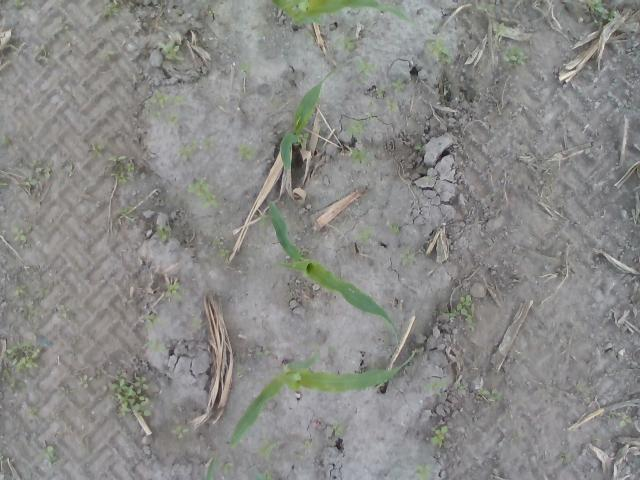Maize: (266, 199, 399, 344), (229, 350, 415, 452), (280, 72, 332, 172), (270, 0, 411, 30), (204, 456, 220, 480)
Weeds: (0, 340, 42, 396), (110, 368, 156, 417), (14, 282, 49, 320), (185, 176, 224, 208), (424, 37, 456, 65), (456, 294, 478, 332), (343, 111, 376, 136), (110, 154, 135, 186), (350, 56, 378, 81), (158, 38, 185, 62), (588, 0, 610, 28), (144, 94, 186, 108), (160, 278, 182, 304), (497, 46, 527, 65), (478, 386, 510, 403), (350, 148, 374, 169), (254, 439, 280, 458), (335, 34, 359, 54), (208, 238, 232, 258), (352, 226, 377, 244), (31, 160, 57, 177), (40, 444, 59, 466), (236, 142, 257, 160), (612, 410, 632, 428), (146, 336, 168, 352), (494, 22, 513, 40), (398, 248, 417, 266), (431, 424, 448, 444), (95, 48, 115, 64), (88, 143, 105, 161), (154, 225, 172, 242), (414, 463, 432, 480), (144, 313, 160, 332), (171, 424, 190, 440), (384, 97, 402, 113), (432, 307, 456, 319), (104, 0, 122, 16), (176, 144, 193, 160), (11, 223, 26, 241), (424, 380, 448, 391), (201, 134, 215, 152), (56, 384, 70, 402), (391, 78, 406, 94), (78, 374, 94, 389), (56, 304, 70, 320), (330, 422, 344, 436), (37, 48, 49, 64), (512, 430, 527, 442), (388, 222, 400, 236), (254, 471, 272, 480), (481, 3, 495, 13), (298, 246, 312, 256), (116, 207, 130, 217), (300, 134, 312, 145), (0, 135, 13, 145), (24, 407, 38, 416), (24, 176, 36, 186), (234, 367, 244, 378), (414, 143, 426, 152), (302, 440, 312, 450), (222, 462, 232, 472), (192, 319, 202, 329), (327, 344, 337, 354), (167, 114, 177, 124), (240, 62, 250, 72), (608, 10, 617, 21), (14, 0, 26, 8), (255, 350, 271, 356), (208, 7, 218, 16), (150, 111, 160, 120), (198, 0, 208, 8), (375, 87, 383, 96), (456, 384, 466, 391), (319, 127, 327, 135), (0, 180, 7, 188), (281, 259, 289, 264)
